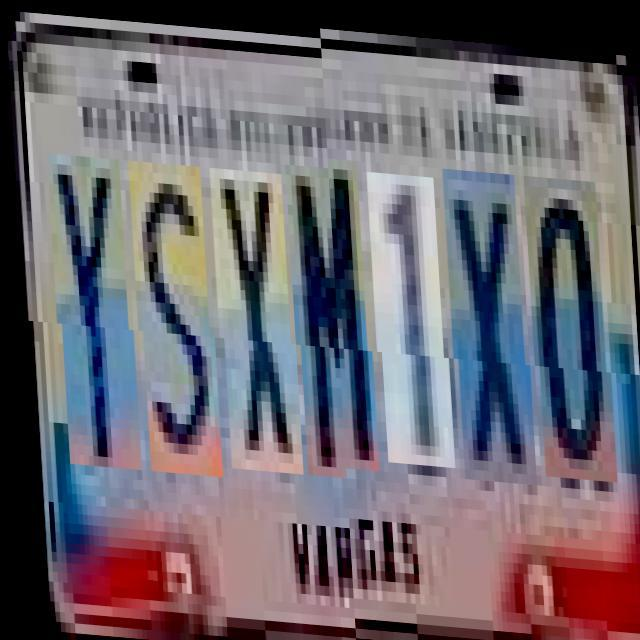1: (370, 175, 450, 470)
M: (288, 160, 374, 474)
O: (528, 176, 612, 482)
S: (131, 158, 217, 474)
X: (446, 170, 532, 486), (212, 164, 298, 470)
Y: (50, 153, 136, 468)
